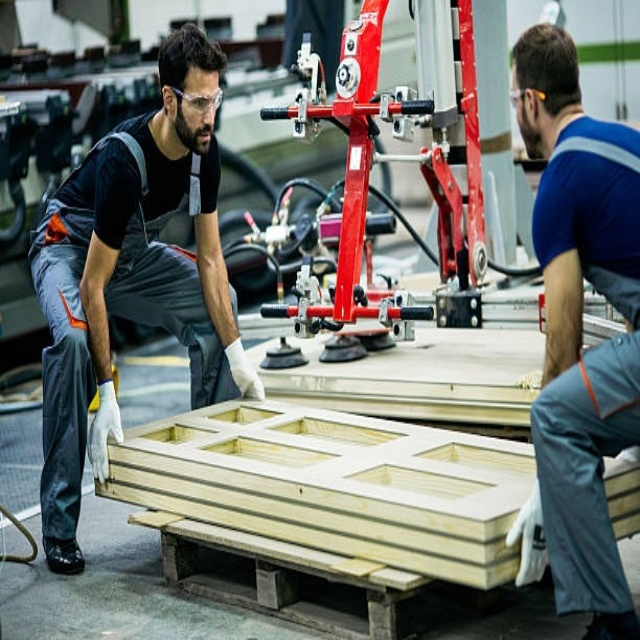Gafas: (170, 85, 223, 113), (509, 86, 550, 110)
Guantes: (506, 478, 548, 586), (86, 380, 123, 484), (223, 336, 264, 401)
Sin_mascara: (188, 124, 215, 154)
